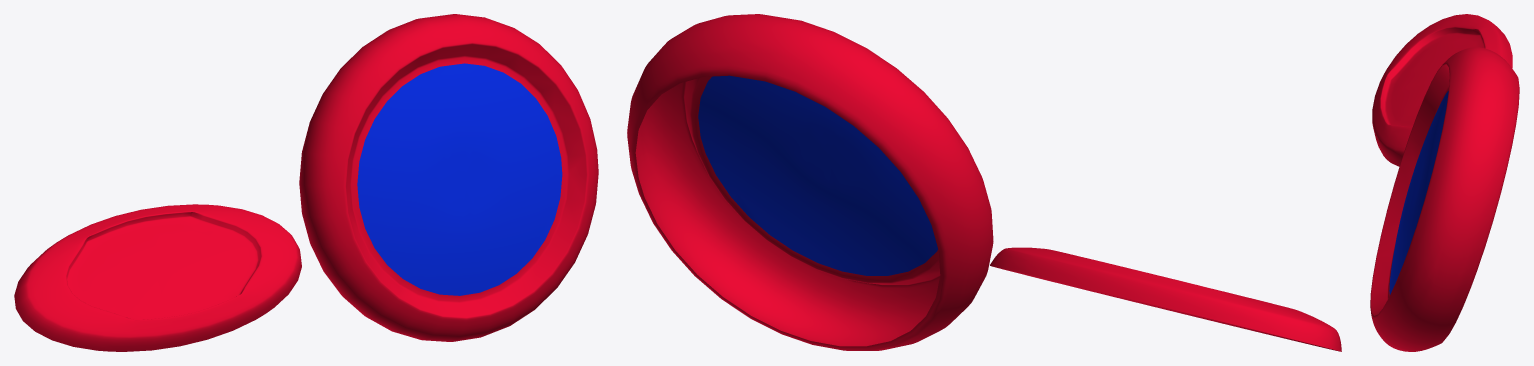
The model's file is LP_Socles.fbx.
3 renders of one model, left to right at view 1: azimuth 30°, elevation 25°; view 2: azimuth 150°, elevation 25°; view 3: azimuth 270°, elevation 25°, orthographic. The views are drawn at different scales.
Visible parts, largest first — view 1: LP_Socle; view 2: LP_Socle; view 3: LP_Socle.
Part boxes in pixels (box(x1,y1,x2,y2)): LP_Socle: box(14, 14, 598, 351); LP_Socle: box(627, 14, 1341, 351); LP_Socle: box(1370, 14, 1519, 351).
Size of the model in its own units: 91.03 by 43.77 by 21.61.
